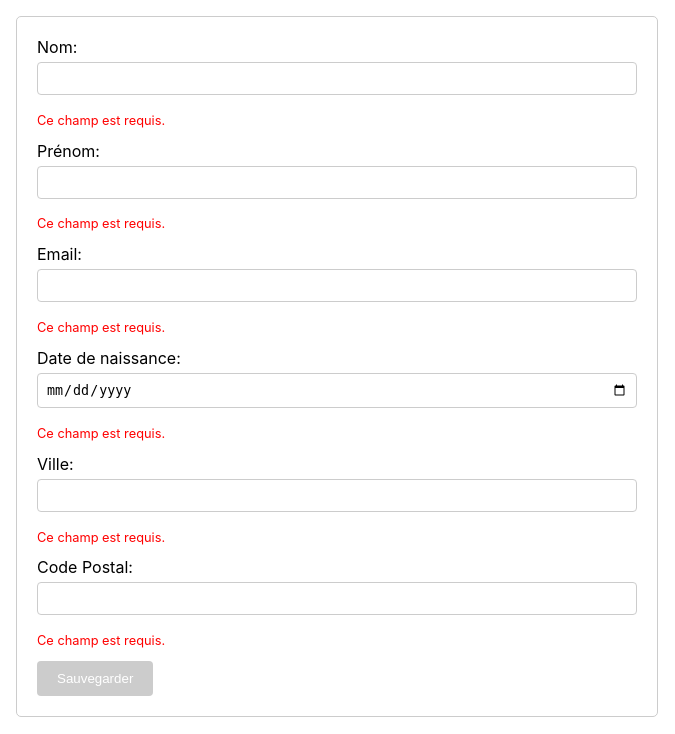
Test: App › tests for the form › email › should display an error message if the input is invalid xxxx@xxxx
Type "xxxx@xxxx" into the field with test id "inputEmail" at point(337, 286), box [37,269,637,302]
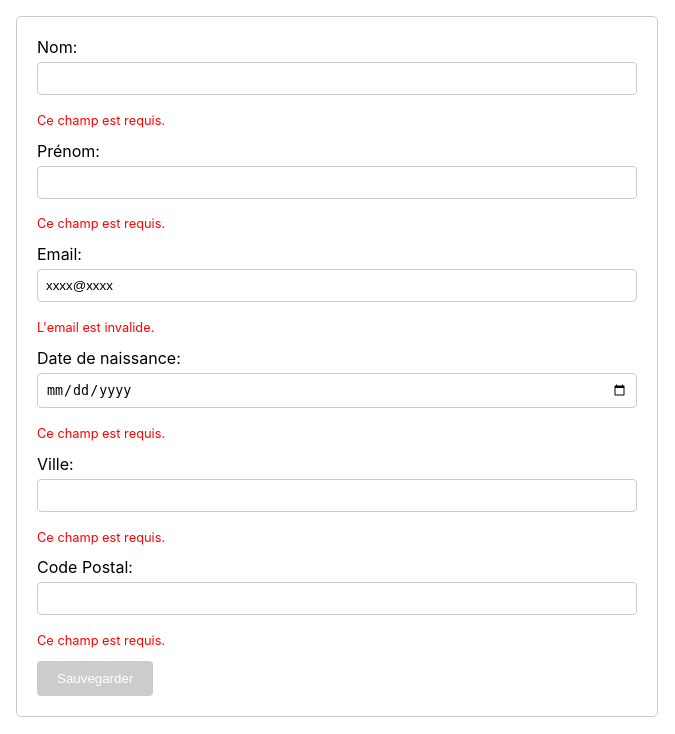
Expected: the text "L'email est invalide." is shown, [37,320,154,335]
